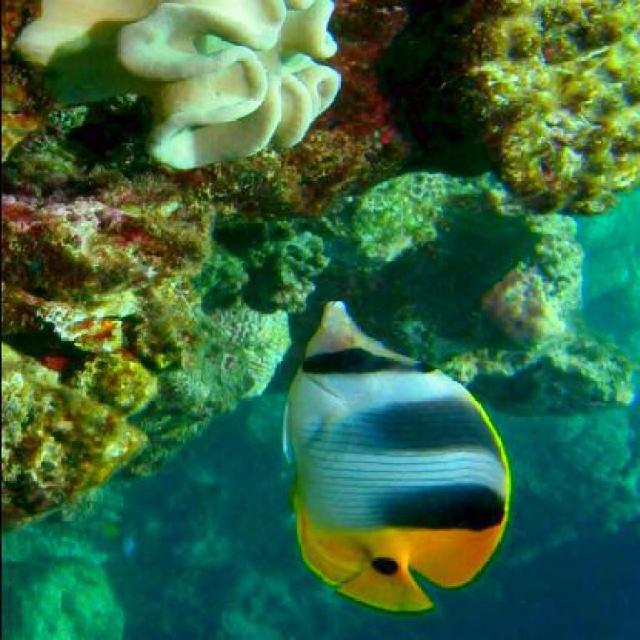ButterflyFish: (285, 300, 513, 611)
